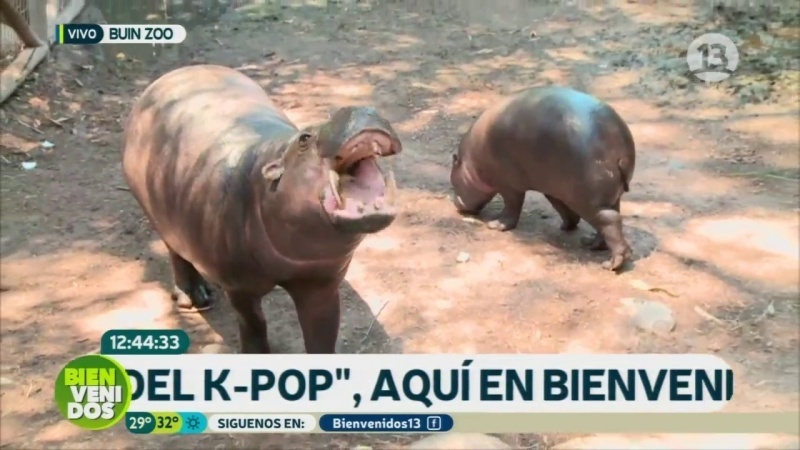hipopotamo: (104, 52, 412, 354), (439, 74, 646, 275)
